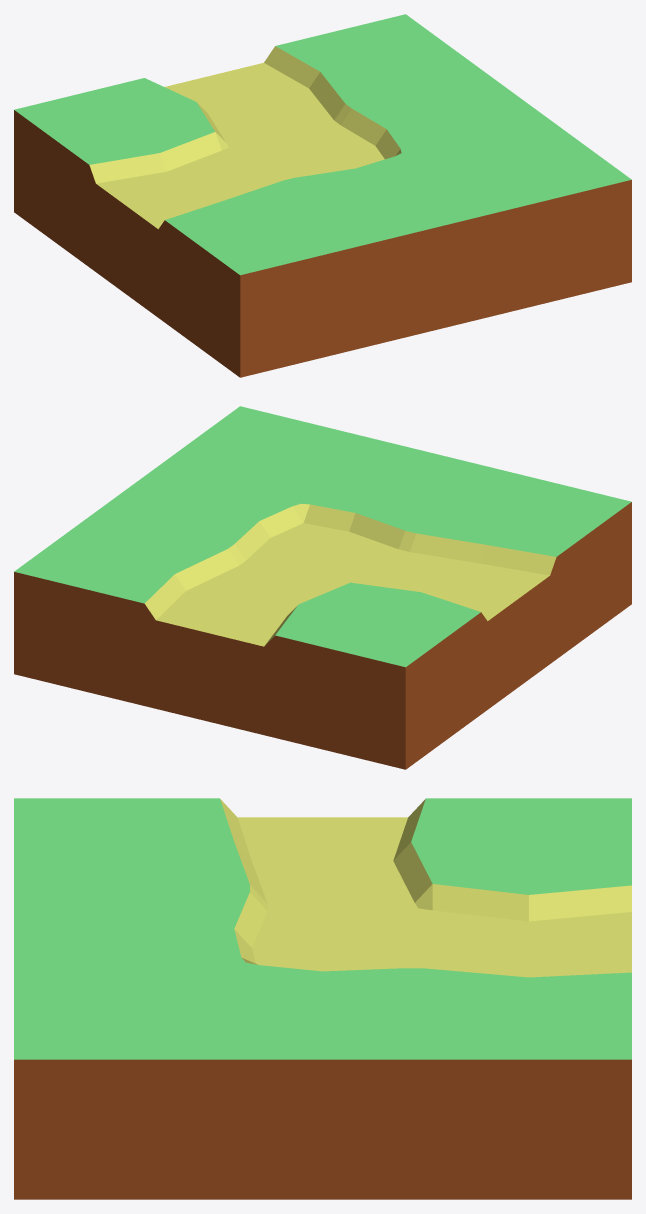
The model's file is pathCorner.fbx.
3 renders of one model, top to bottom at view 1: azimuth 30°, elevation 25°; view 2: azimuth 150°, elevation 25°; view 3: azimuth 270°, elevation 25°, orthographic. The views are drawn at different scales.
Parts seen in each view (by area): view 1: pathCorner; view 2: pathCorner; view 3: pathCorner.
Part boxes in pixels (x1,y1,x2,y2): pathCorner: [14, 14, 631, 377]; pathCorner: [14, 406, 631, 769]; pathCorner: [14, 798, 631, 1199].
Bounding box in the file's own units: 200 × 50 × 200.
